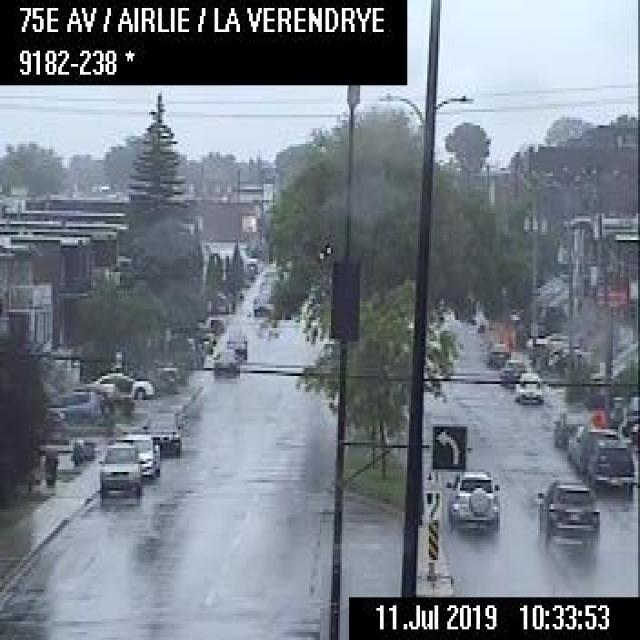construction: (589, 407, 606, 427)
vehicle: (537, 478, 598, 551), (444, 461, 500, 536), (586, 435, 636, 493), (93, 439, 140, 496), (85, 370, 153, 400), (577, 426, 617, 476), (141, 407, 182, 455), (57, 387, 110, 422), (120, 430, 159, 477), (552, 407, 588, 446), (515, 370, 545, 406), (526, 330, 566, 352), (211, 346, 239, 376), (498, 358, 525, 387), (224, 328, 248, 359), (486, 340, 508, 366), (252, 293, 272, 315)
